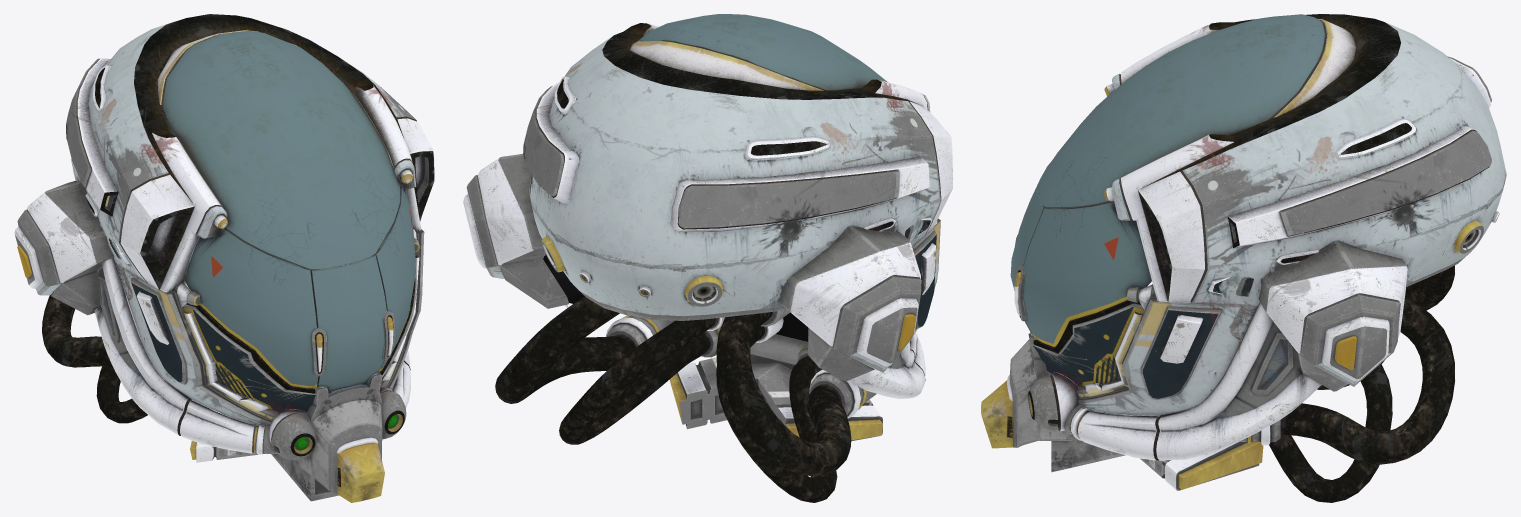
File: poetic_compiler.glb
3 views of the same model, side by side, from view 1: azimuth 30°, elevation 25°; view 2: azimuth 150°, elevation 25°; view 3: azimuth 270°, elevation 25° (orthographic). The views are drawn at different scales.
Parts seen in each view (by area): view 1: node_damagedHelmet_-6514; view 2: node_damagedHelmet_-6514; view 3: node_damagedHelmet_-6514.
Part boxes in pixels (x1,y1,x2,y2): node_damagedHelmet_-6514: (14, 14, 434, 502); node_damagedHelmet_-6514: (463, 14, 952, 502); node_damagedHelmet_-6514: (981, 14, 1506, 502).
Size of the model in its own units: 1.89 by 1.8 by 2.
1 material, 1 textured.
